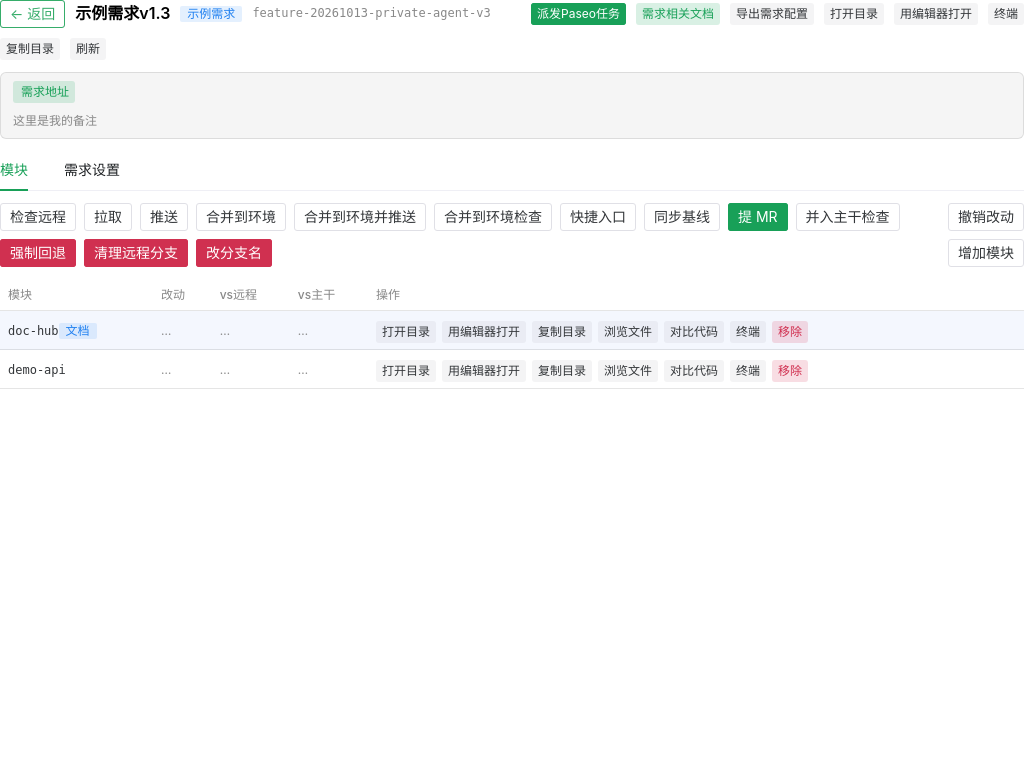
Test: 改分支名 › 新分支名一改，影响面就跟着重算（不能停在「请先填入」）
Step 1. Click the button "改分支名" → (234, 253), box [196, 239, 272, 267]
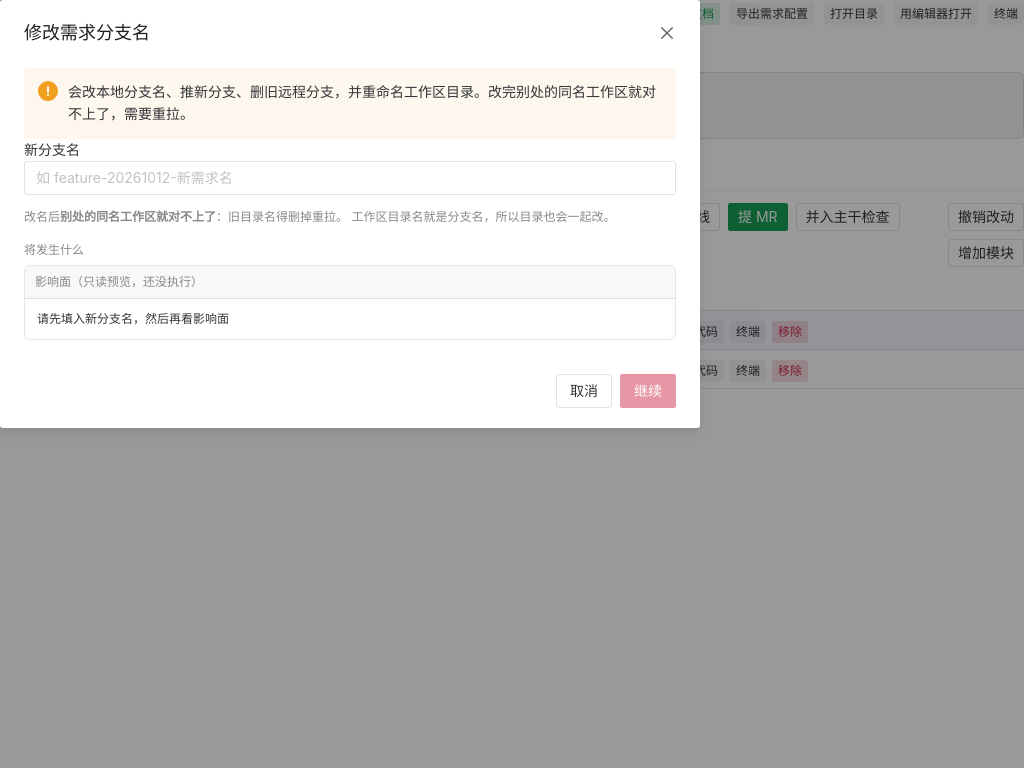
Now the text "请先填入新分支名" is shown, box [37, 312, 229, 326]
Step 2. Type "feature-20261013-renamed" into the field with placeholder "如 feature-20261012-新需求名" → (350, 178), box [36, 161, 664, 195]
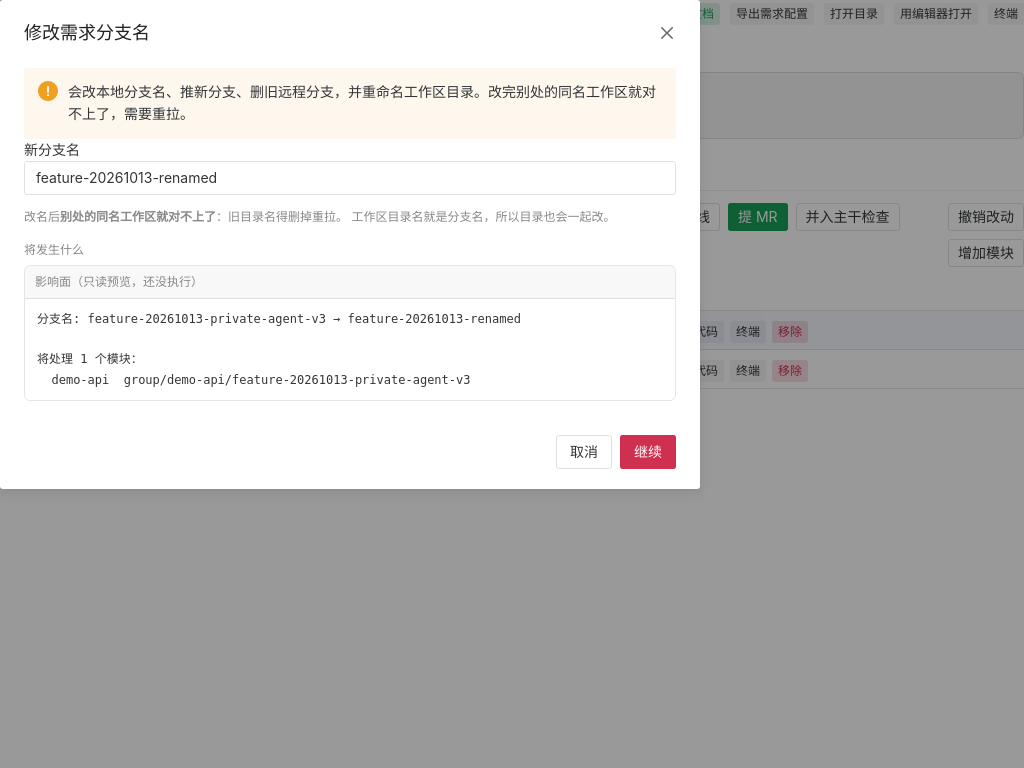
Expected: the text "demo-api" is shown, [8, 363, 66, 377]
Now the text "分支名:" is shown, box [37, 312, 521, 387]
